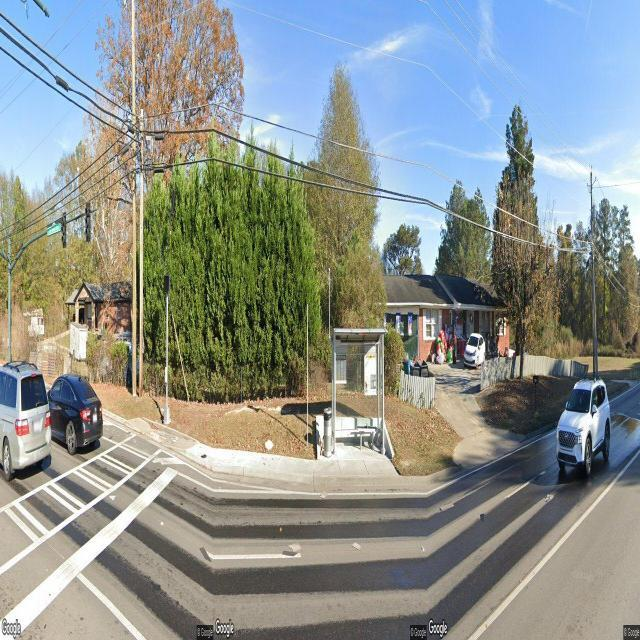seating: (356, 422, 378, 453)
shelter: (332, 328, 388, 456)
trash_can: (323, 408, 333, 457)
